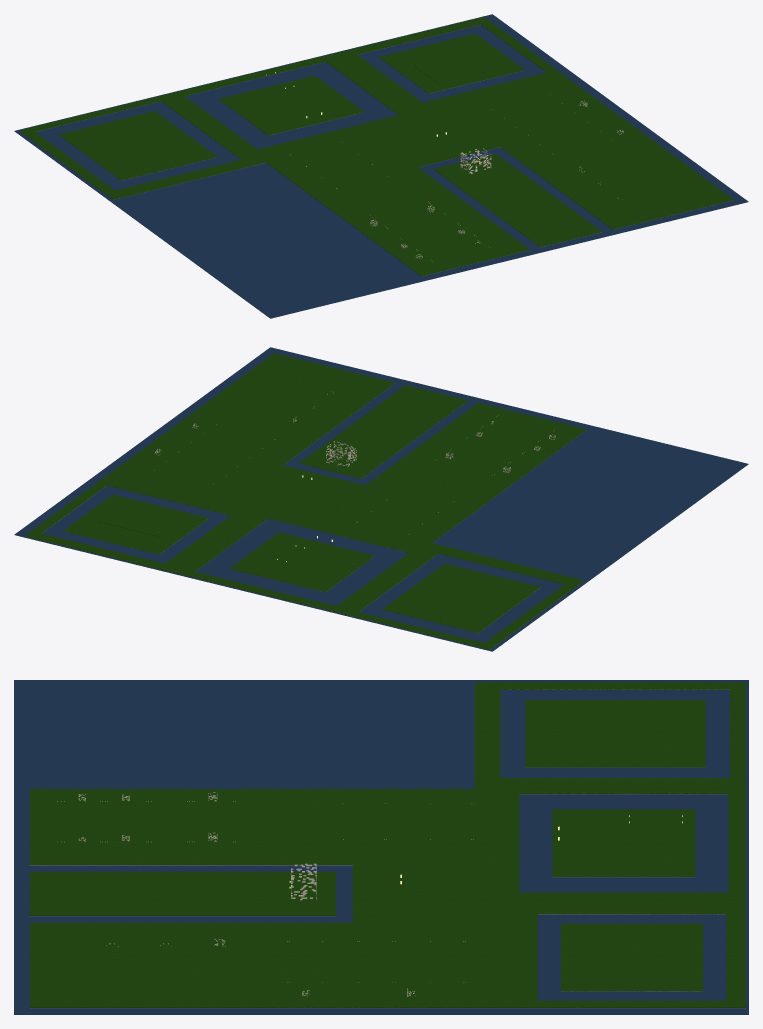
The model's file is Neris-01.glb.
3 renders of one model, top to bottom at view 1: azimuth 30°, elevation 25°; view 2: azimuth 150°, elevation 25°; view 3: azimuth 270°, elevation 25°, orthographic. The views are drawn at different scales.
Visible parts, largest first — view 1: Town Grass, Royal Deep Blue Moat Bed, Town Foundation; view 2: Town Grass, Royal Deep Blue Moat Bed, Town Foundation; view 3: Town Grass, Royal Deep Blue Moat Bed, Town Foundation, Limestone Block Tone 4.
Part boxes in pixels (x1,y1,x2,y2): Town Grass: (19, 17, 733, 276); Royal Deep Blue Moat Bed: (14, 14, 748, 318); Town Foundation: (21, 24, 732, 276); Town Grass: (25, 353, 586, 649); Royal Deep Blue Moat Bed: (14, 347, 748, 651); Town Foundation: (25, 383, 586, 649); Town Grass: (29, 682, 745, 1007); Royal Deep Blue Moat Bed: (14, 680, 748, 1014); Town Foundation: (29, 689, 745, 1008); Limestone Block Tone 4: (214, 863, 415, 996).
Size of the model in its own units: 765 by 28.49 by 710.
Materials: 6 (1 with a texture image).
